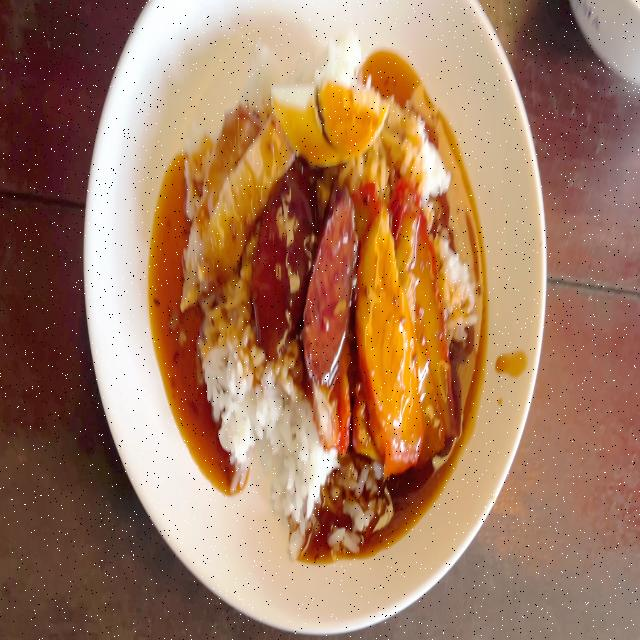boiled_egg: (271, 81, 381, 159)
chainese_sausage: (253, 181, 355, 361), (257, 174, 319, 342), (313, 202, 353, 366)
crispy_pork: (185, 105, 288, 301)
red_pork: (359, 184, 445, 456), (401, 170, 450, 458), (361, 183, 413, 450), (315, 369, 350, 445)
red_pork_and_crispy_pork: (186, 34, 484, 530)
rice: (219, 368, 316, 508), (208, 290, 249, 463)
